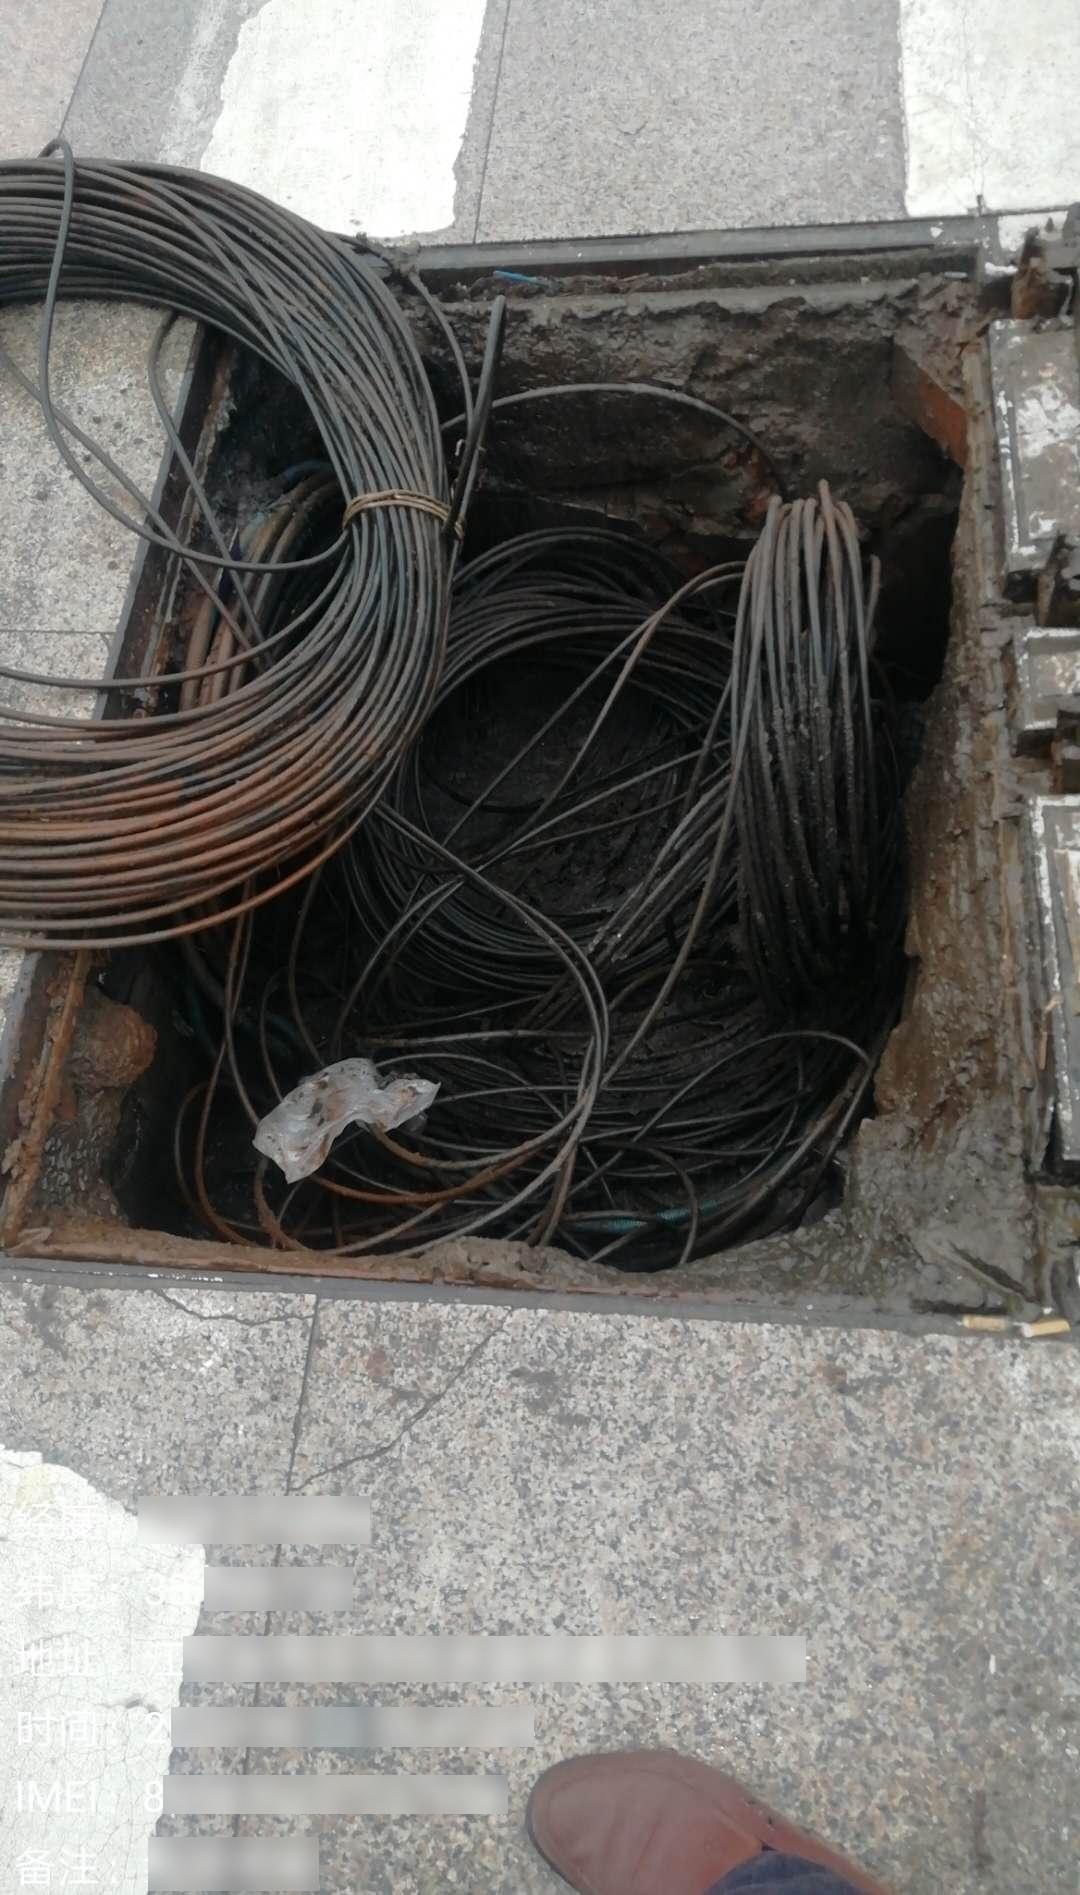wellcover: (0, 163, 1080, 1354)
